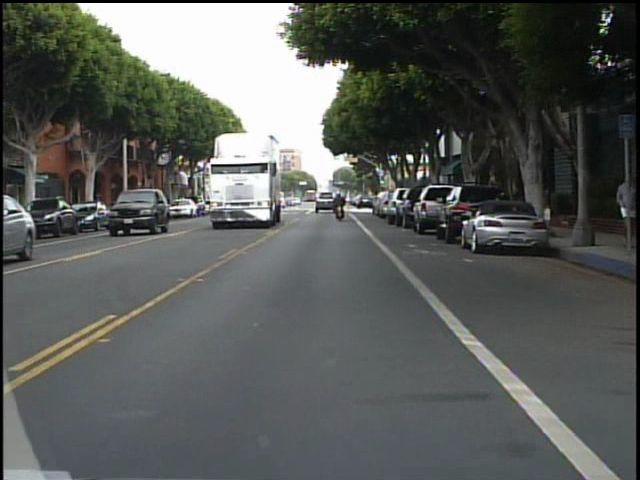person: (331, 190, 350, 222)
